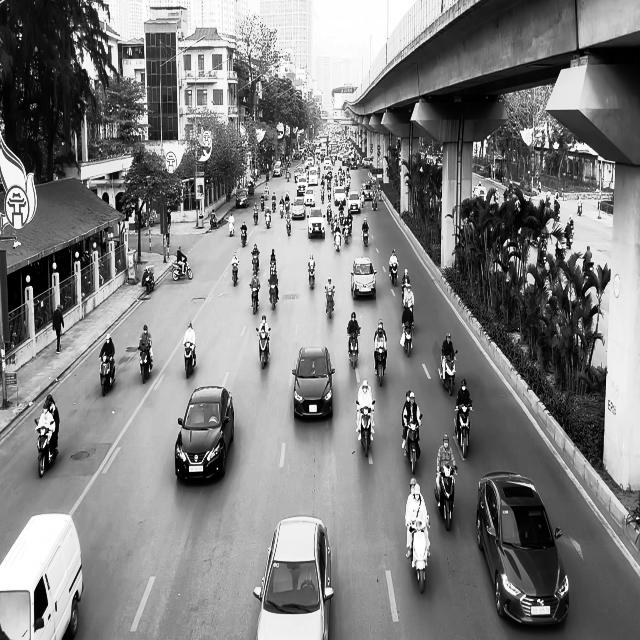car: (476, 471, 570, 626), (253, 515, 334, 639), (174, 384, 234, 482), (291, 346, 335, 420), (350, 256, 377, 300), (307, 207, 325, 239), (235, 188, 249, 208)
motorbike: (407, 519, 430, 593), (434, 464, 458, 530), (34, 418, 59, 478), (355, 399, 375, 457), (454, 399, 473, 459), (402, 419, 422, 474), (438, 349, 458, 396), (98, 354, 115, 396), (138, 342, 153, 384), (256, 327, 270, 369), (374, 347, 387, 386), (348, 328, 360, 369), (400, 322, 414, 357), (183, 341, 196, 378), (172, 256, 192, 280), (142, 265, 155, 294), (268, 276, 279, 310), (324, 286, 335, 318), (249, 283, 260, 314), (389, 258, 398, 286), (231, 260, 239, 286), (251, 251, 259, 273), (308, 264, 315, 289), (240, 227, 247, 247), (286, 212, 292, 235), (362, 226, 368, 246), (228, 220, 235, 237)
